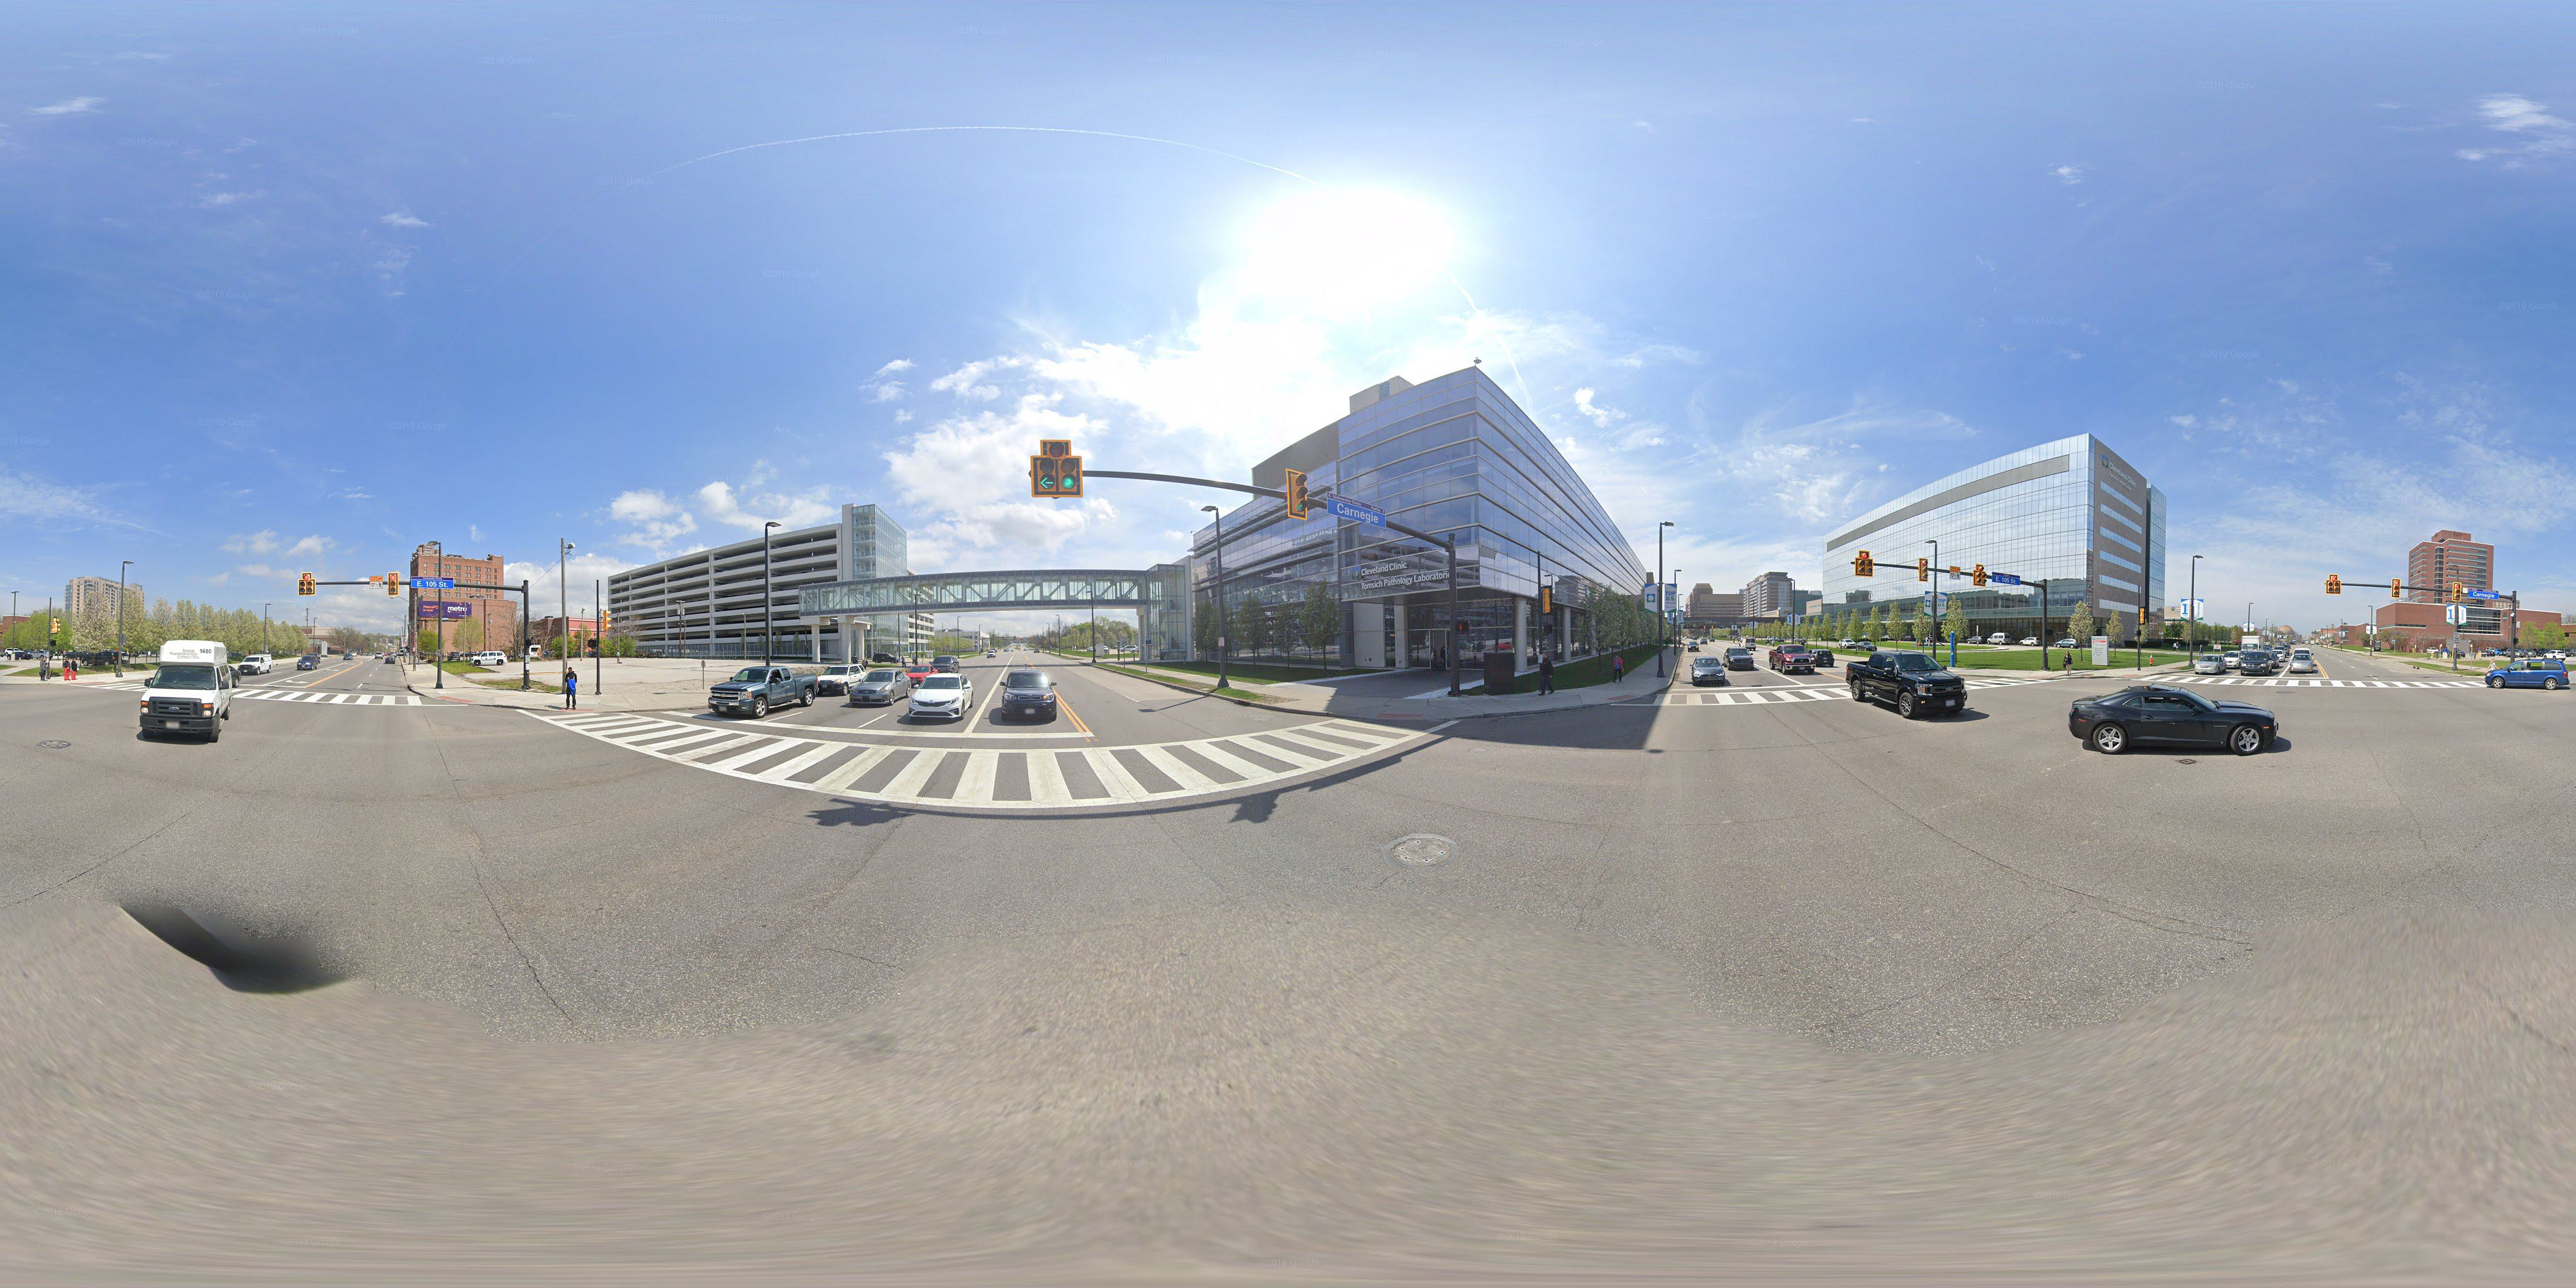Curb Ramp: (1365, 703, 1442, 726), (1605, 683, 1649, 706), (67, 674, 115, 688), (555, 700, 596, 716), (435, 692, 475, 706), (2024, 670, 2054, 683), (2119, 670, 2141, 677)
